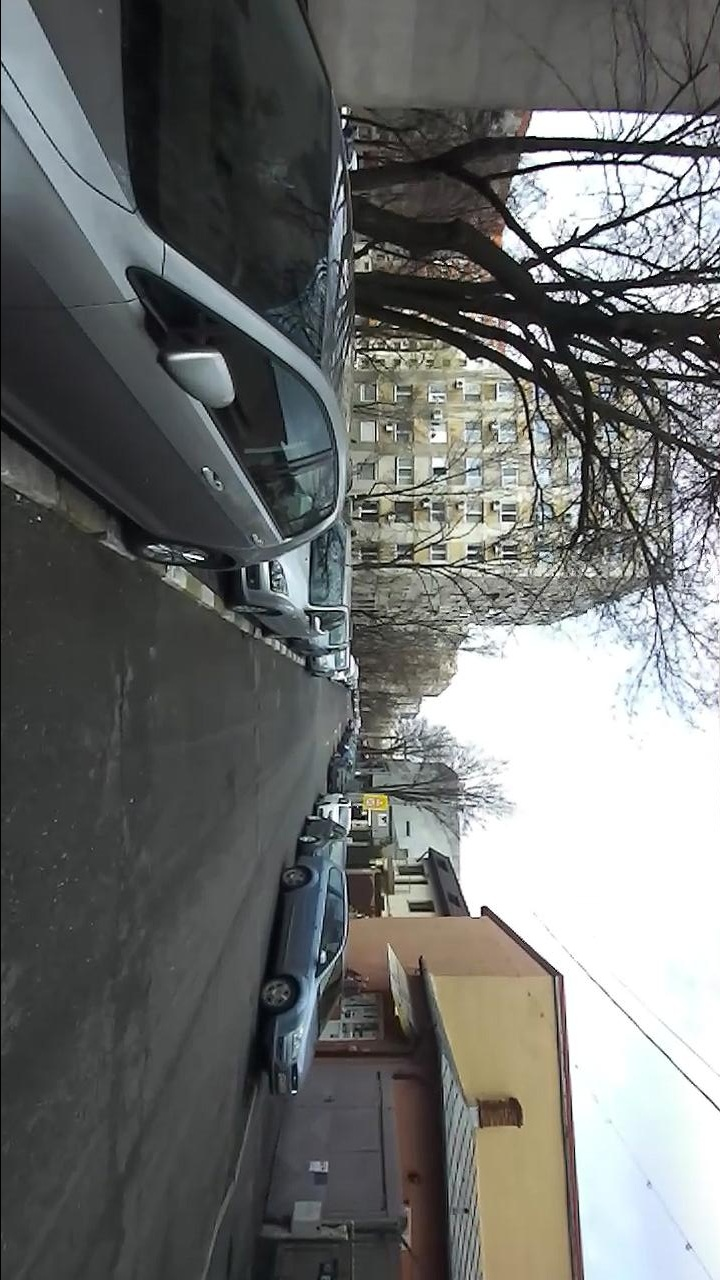pothole: (107, 659, 142, 768)
